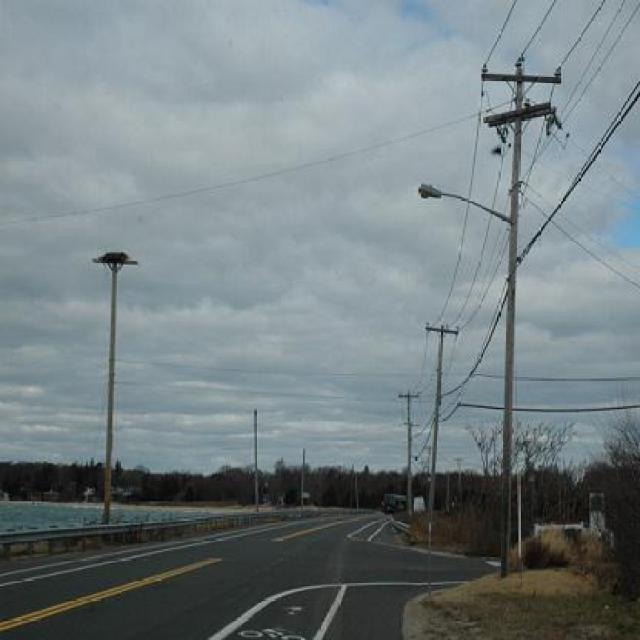pole: (468, 57, 562, 574), (422, 315, 460, 514)
